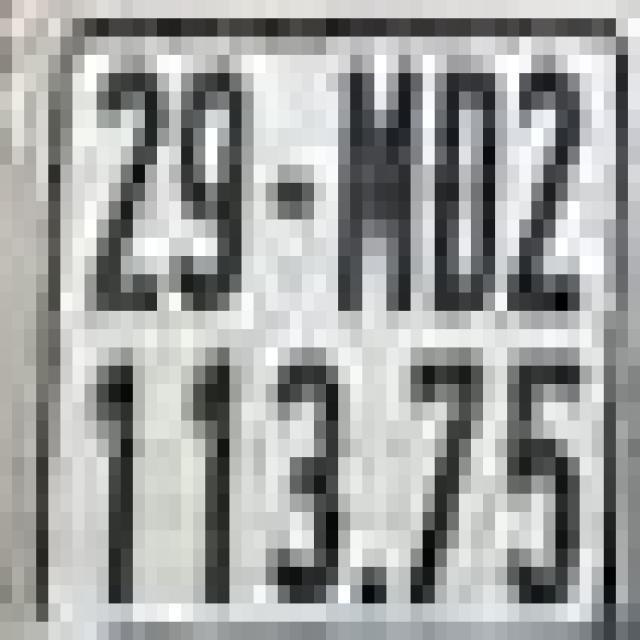1: (193, 348, 242, 604), (96, 366, 146, 604)
2: (96, 73, 170, 311), (507, 73, 580, 311)
3: (266, 366, 338, 604)
5: (507, 366, 580, 604)
7: (411, 348, 484, 604)
9: (169, 73, 242, 311)
D: (434, 73, 496, 311)
M: (332, 55, 417, 311)
